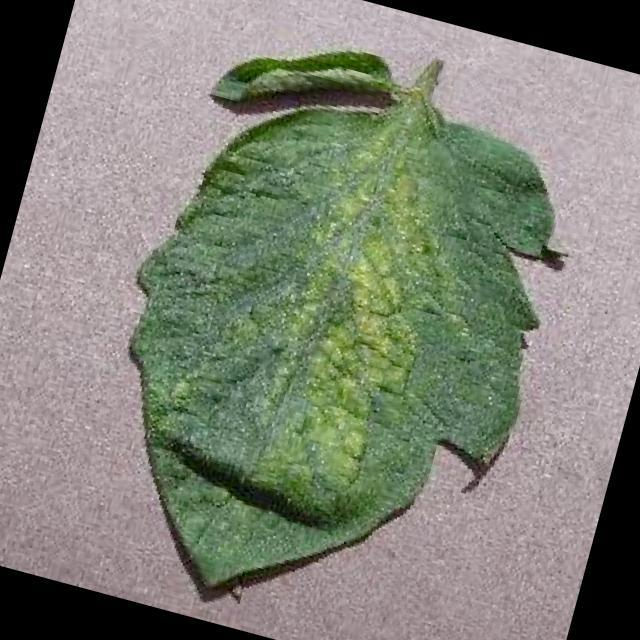Tomato spider mites leaf: (62, 11, 601, 640)
